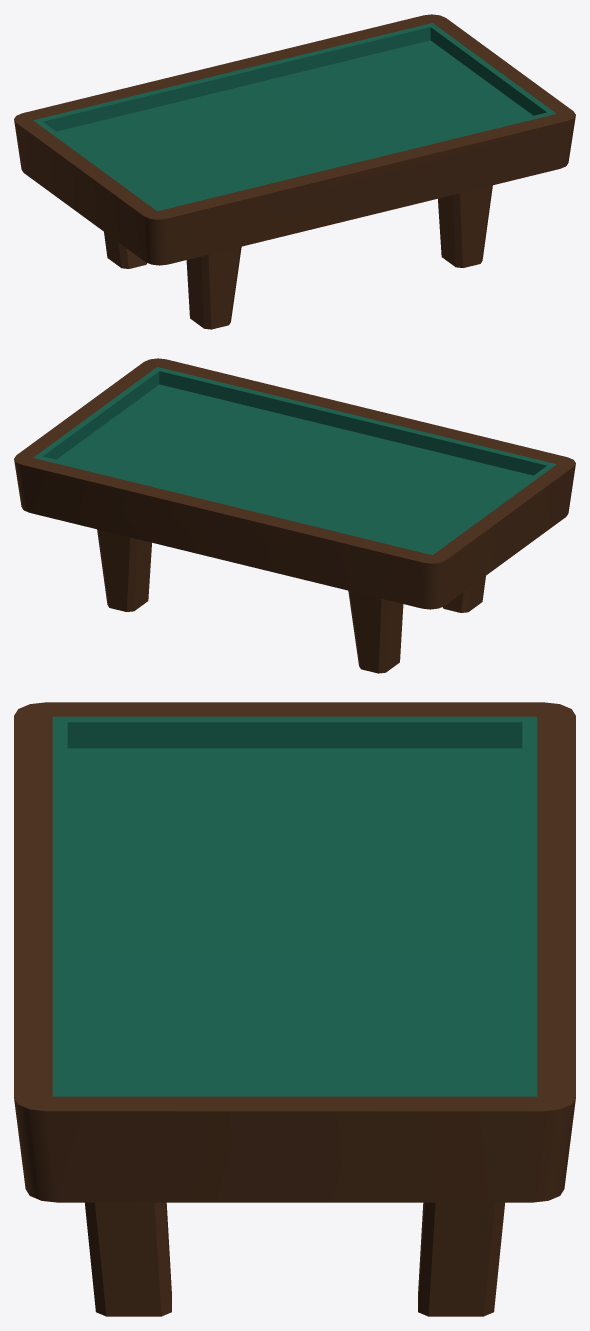
Rendered from 05b5a655-1eab-4282-a2e6-80e60118f9ec.glb.
The picture shows the model from 3 angles, top to bottom: view 1: azimuth 30°, elevation 25°; view 2: azimuth 150°, elevation 25°; view 3: azimuth 270°, elevation 25°; orthographic projection. The views are drawn at different scales.
Visible parts, largest first — view 1: FrenchTableTop, Feets1; view 2: FrenchTableTop, Feets1; view 3: FrenchTableTop, Feets1.
Part boxes in pixels (x1=…): FrenchTableTop: x1=14, y1=14, x2=575, y2=265; Feets1: x1=104, y1=185, x2=492, y2=329; FrenchTableTop: x1=14, y1=358, x2=575, y2=609; Feets1: x1=97, y1=529, x2=485, y2=673; FrenchTableTop: x1=14, y1=702, x2=575, y2=1202; Feets1: x1=85, y1=1202, x2=504, y2=1316.
Size of what is drawn, in the model's own units: 3.06 by 0.9683 by 1.78.
Materials: 1 (1 with a texture image).
